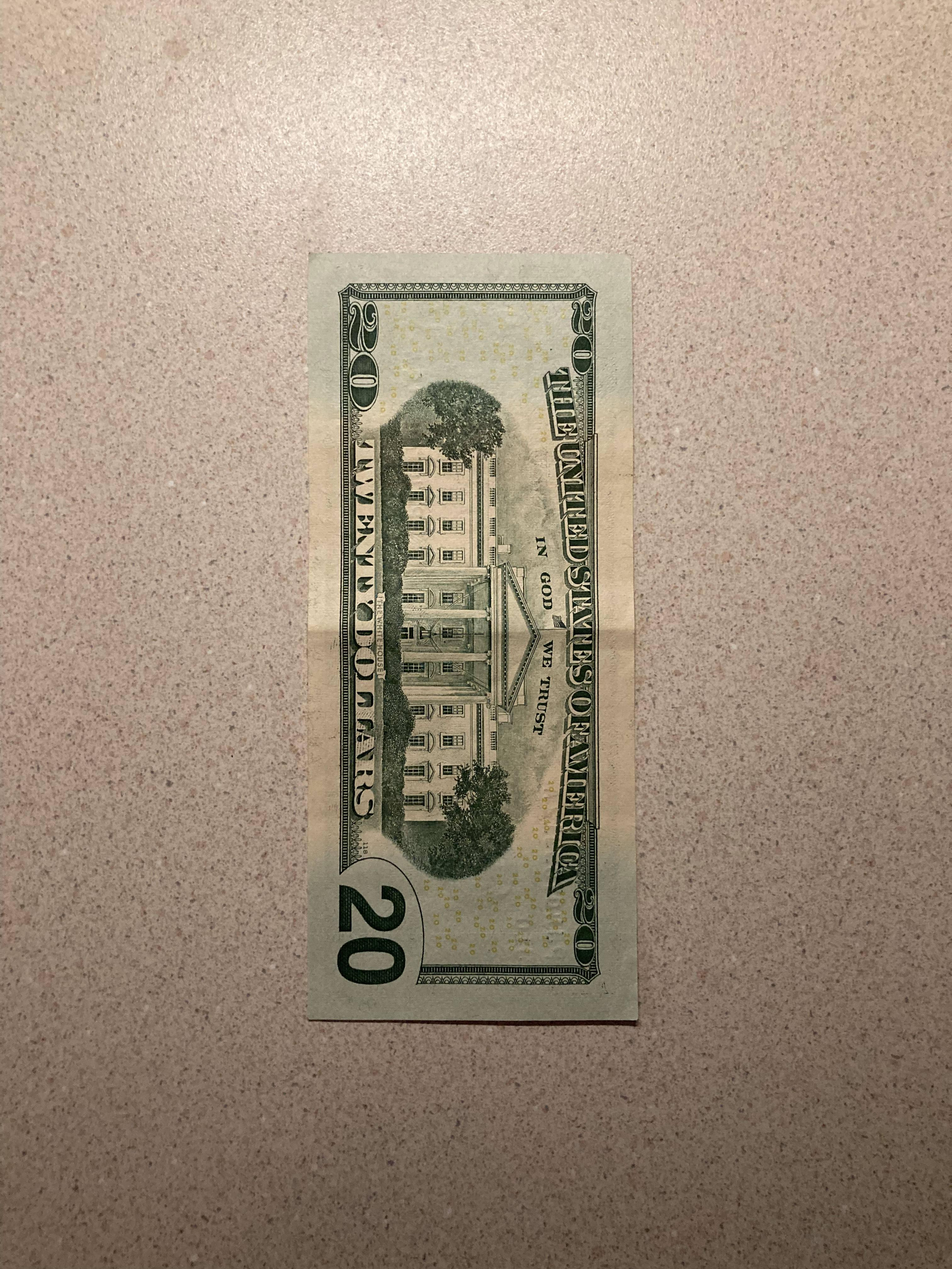twenty-back: (303, 252, 639, 1024)
